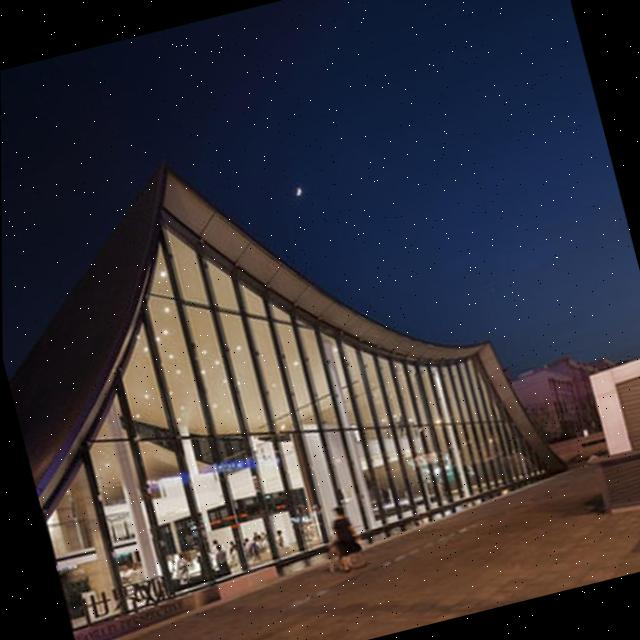building: (1, 89, 578, 635), (565, 333, 640, 575), (496, 325, 604, 447)
